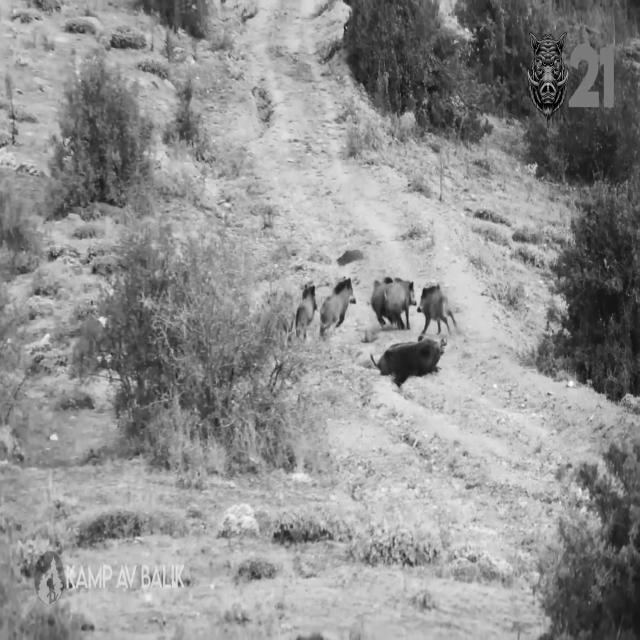boar: (370, 329, 446, 386), (371, 276, 417, 328), (320, 277, 356, 335), (418, 284, 458, 334), (296, 284, 317, 339)
